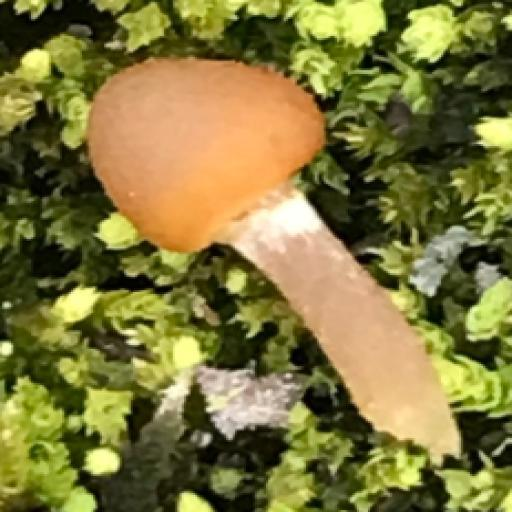mushroom: (78, 50, 412, 366)
